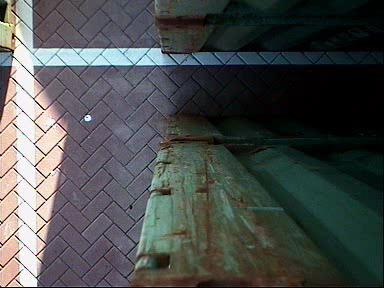groundmarker_2: (197, 88, 243, 152)
